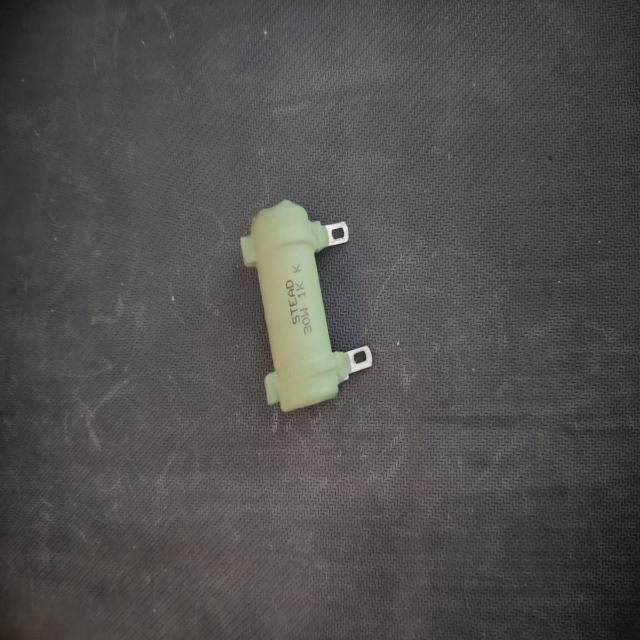resistor: (234, 194, 378, 415)
